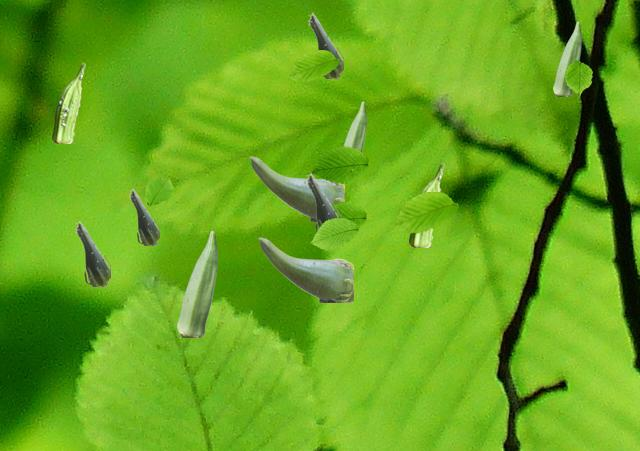okra: (249, 156, 343, 220), (258, 237, 352, 301), (177, 230, 216, 336), (409, 163, 443, 246), (52, 63, 84, 142), (75, 220, 109, 285), (308, 12, 342, 77), (306, 172, 340, 231), (553, 21, 580, 95), (129, 188, 158, 244), (343, 101, 365, 151)
